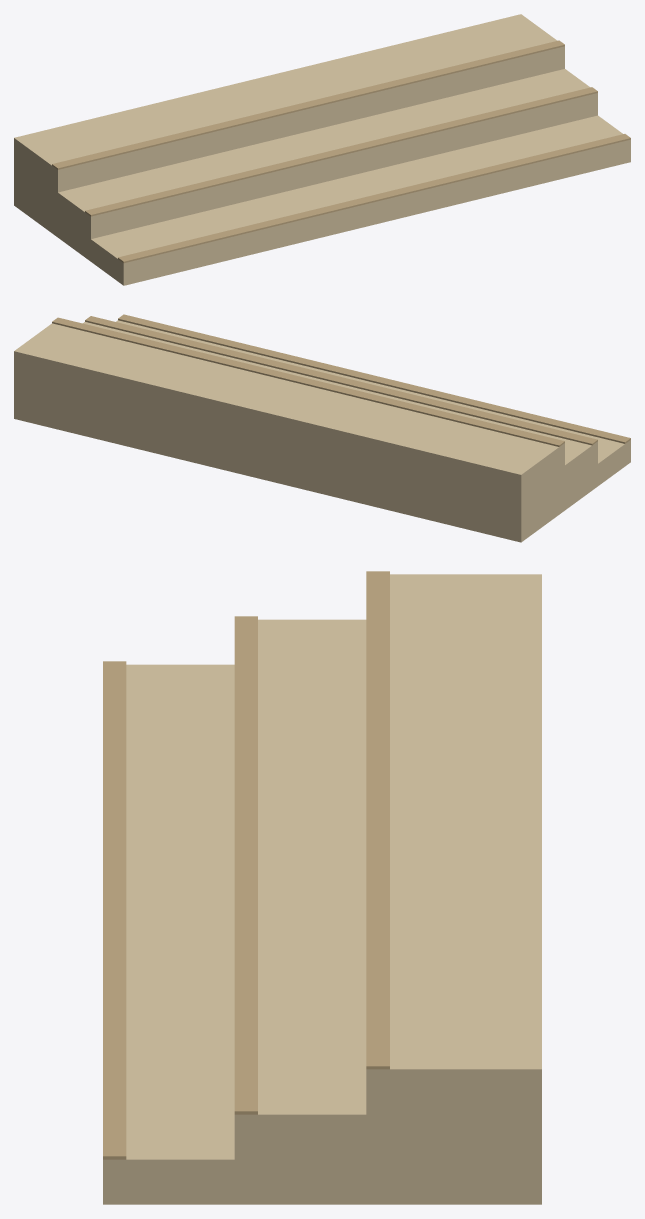
The model's file is steps.glb.
3 views of the same model, one above another, from view 1: azimuth 30°, elevation 25°; view 2: azimuth 150°, elevation 25°; view 3: azimuth 270°, elevation 25° (orthographic). The views are drawn at different scales.
Visible parts, largest first — view 1: SM_ENV_steps; view 2: SM_ENV_steps; view 3: SM_ENV_steps.
Boxes of the visible parts, <box> form: SM_ENV_steps: <box>14,14,630,285</box>; SM_ENV_steps: <box>14,314,630,542</box>; SM_ENV_steps: <box>103,571,541,1204</box>.
Bounding box in the file's own units: 4 × 0.522 × 1.5.
